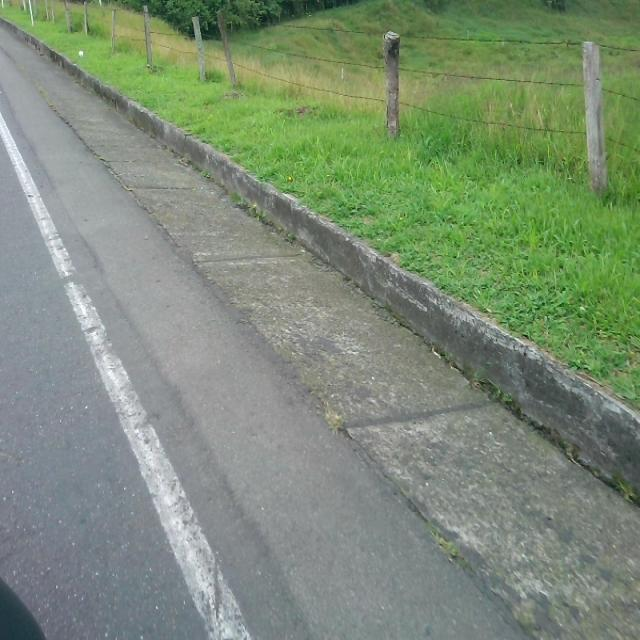DITCH: (1, 16, 638, 638)
